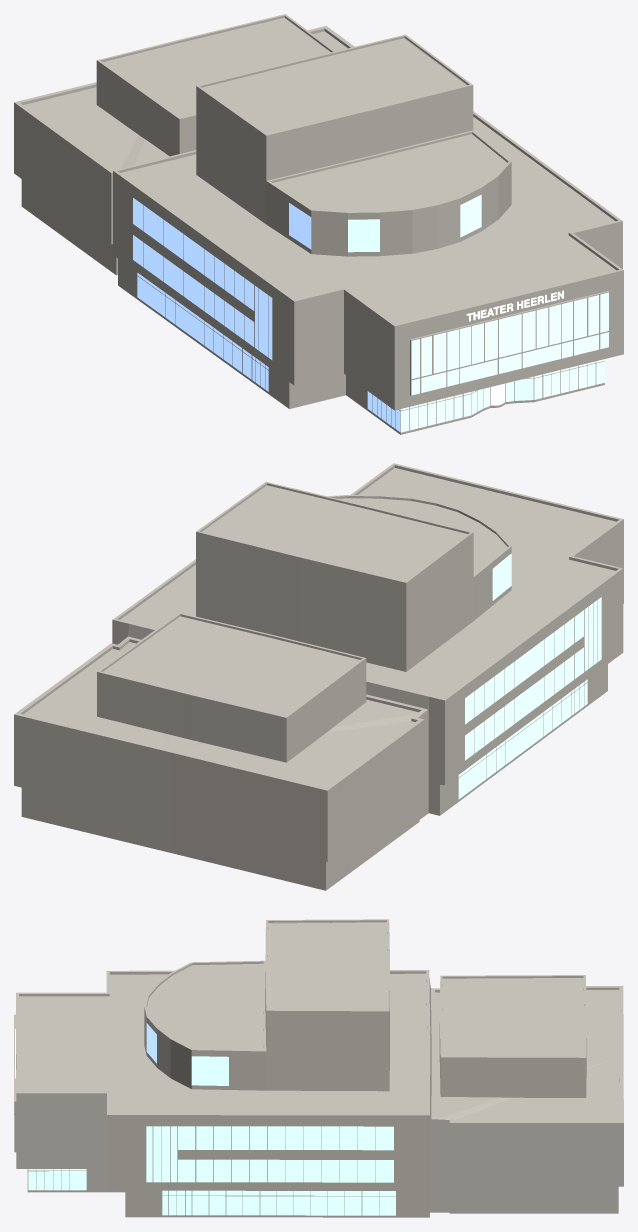
Rendered from theaterheerlenv3.glb.
3 renders of one model, top to bottom at view 1: azimuth 30°, elevation 25°; view 2: azimuth 150°, elevation 25°; view 3: azimuth 270°, elevation 25°, orthographic. The views are drawn at different scales.
Parts seen in each view (by area): view 1: Areas:building.001; view 2: Areas:building.001; view 3: Areas:building.001.
Boxes of the visible parts, x1,y1,x2,y2 form: Areas:building.001: (14,14,623,434); Areas:building.001: (14,463,623,890); Areas:building.001: (14,919,623,1217).
Bounding box in the file's own units: 111 × 64.49 × 196.
